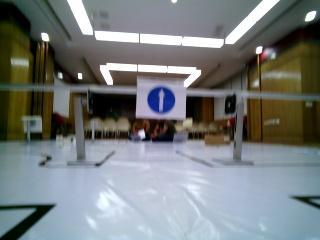straight: (136, 75, 186, 119)
